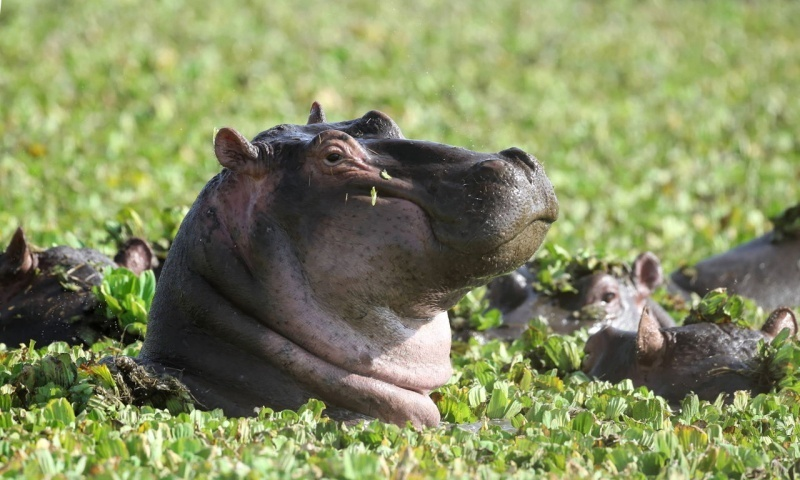hipopotamo: (140, 95, 556, 445), (579, 293, 800, 425), (1, 205, 161, 362), (489, 240, 681, 361)
